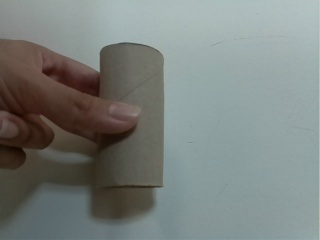rollo papel: (89, 38, 168, 192)
